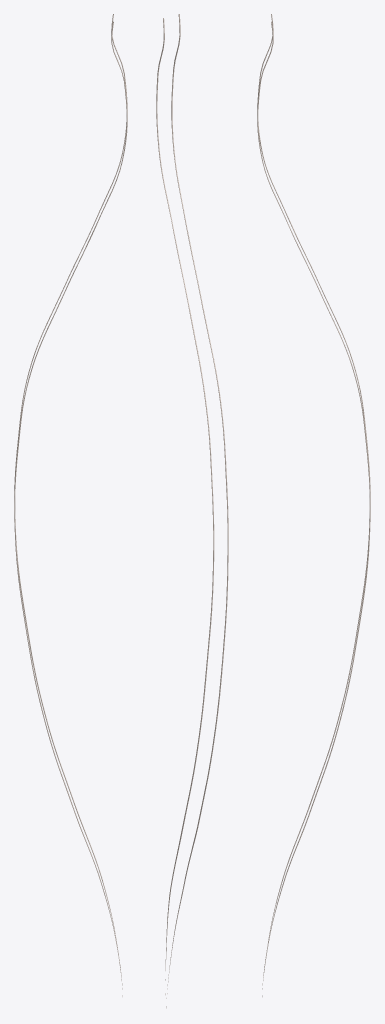
Rendered from nervoso-intermediolateral-nucleus.glb.
3 renders of one model, left to right at view 1: azimuth 90°, elevation 25°; view 2: azimuth 210°, elevation 25°; view 3: azimuth 270°, elevation 25°, orthographic.
Visible parts, largest first — view 1: Intermediolateral nucleus; view 2: Intermediolateral nucleus; view 3: Intermediolateral nucleus.
Part boxes in pixels (x1,y1,x2,y2): Intermediolateral nucleus: (14, 14, 127, 996); Intermediolateral nucleus: (156, 14, 228, 1008); Intermediolateral nucleus: (257, 14, 370, 997).
Bounding box in the file's own units: 0.0087 × 0.4897 × 0.0508.
